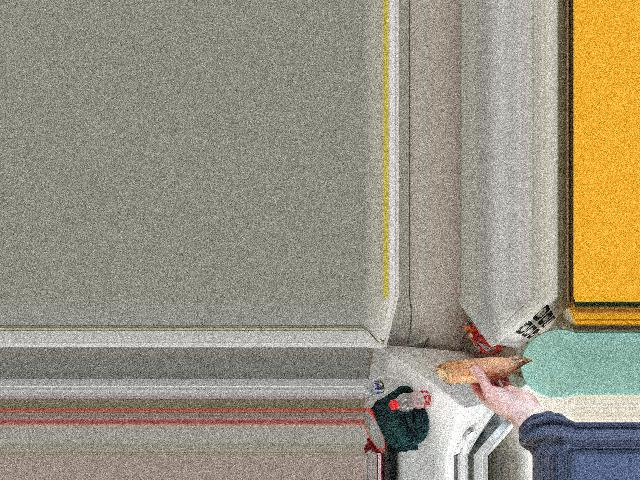sweet_potato: (431, 359, 533, 380)
